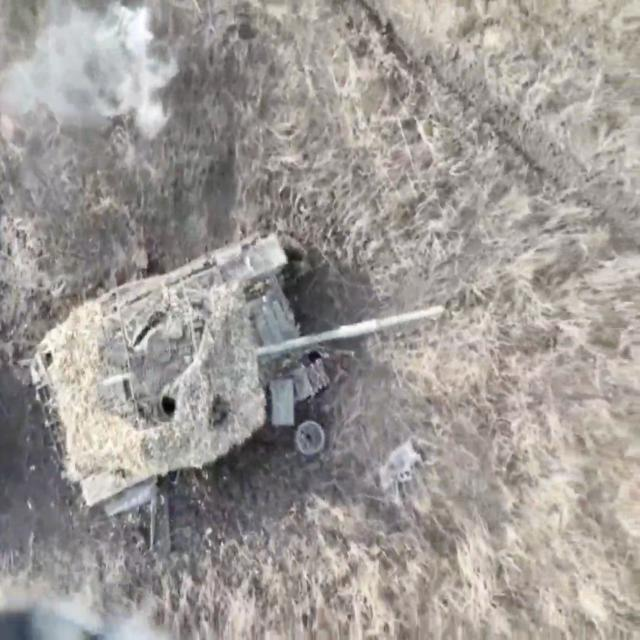vehicle: (15, 207, 452, 564)
